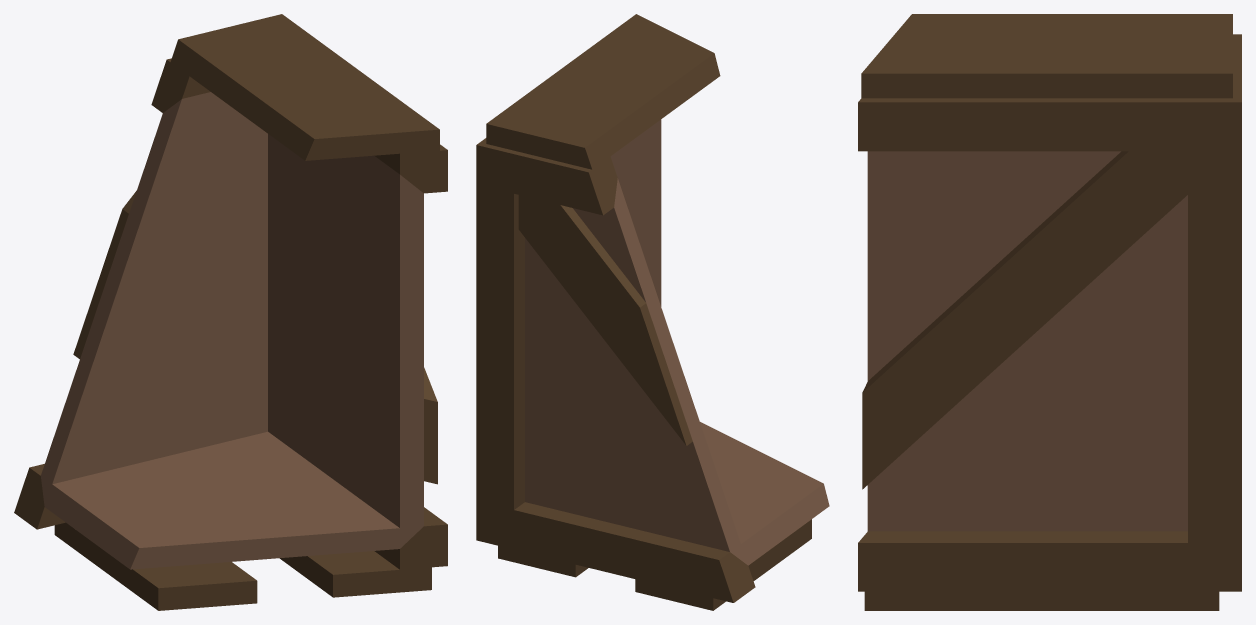
Rendered from crate_chunk1.fbx.
3 renders of one model, left to right at view 1: azimuth 30°, elevation 25°; view 2: azimuth 150°, elevation 25°; view 3: azimuth 270°, elevation 25°, orthographic. The views are drawn at different scales.
Parts seen in each view (by area): view 1: crate_chunk1; view 2: crate_chunk1; view 3: crate_chunk1.
Part boxes in pixels (x1=…): crate_chunk1: x1=14, y1=14, x2=447, y2=610; crate_chunk1: x1=476, y1=14, x2=829, y2=610; crate_chunk1: x1=858, y1=14, x2=1241, y2=610.
Bounding box in the file's own units: 136 × 221 × 142.
